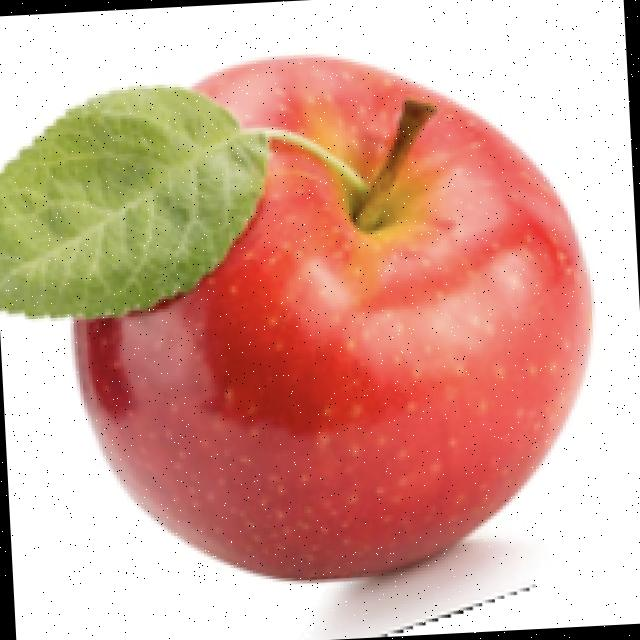apple: (0, 48, 596, 638)
